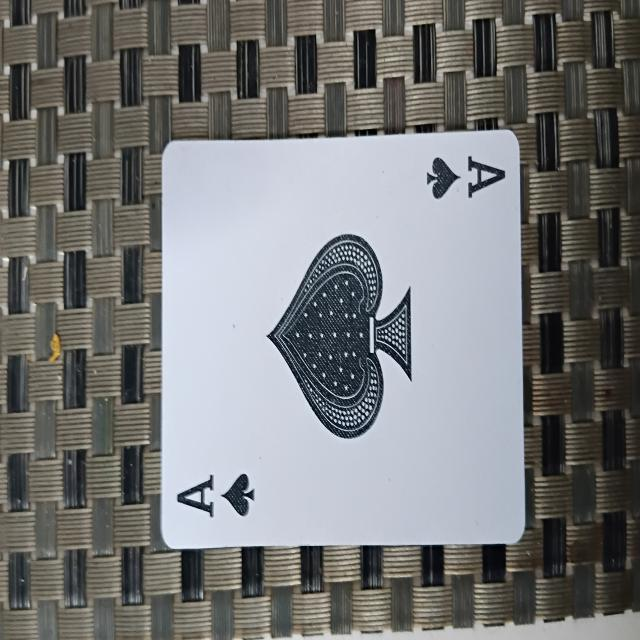AS: (165, 140, 526, 542)
